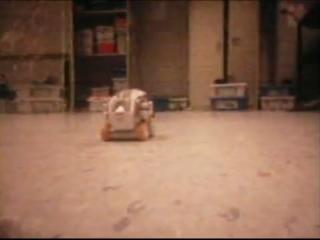cozmo: (98, 88, 156, 142)
